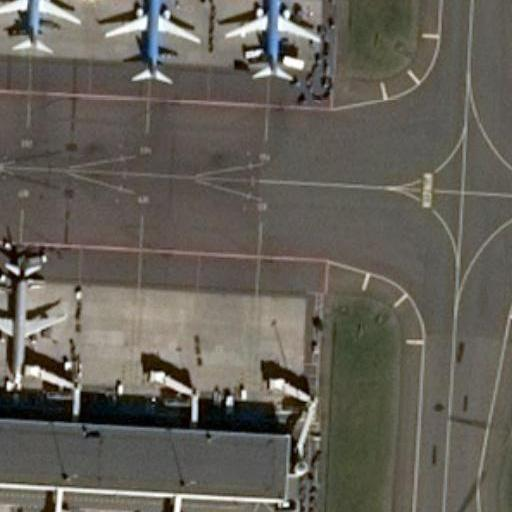Aircraft: (0, 245, 73, 380), (220, 0, 324, 83), (105, 0, 198, 88), (0, 0, 81, 53)
